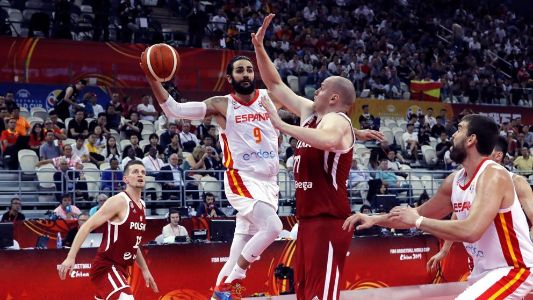baloncesto: (143, 43, 181, 82)
